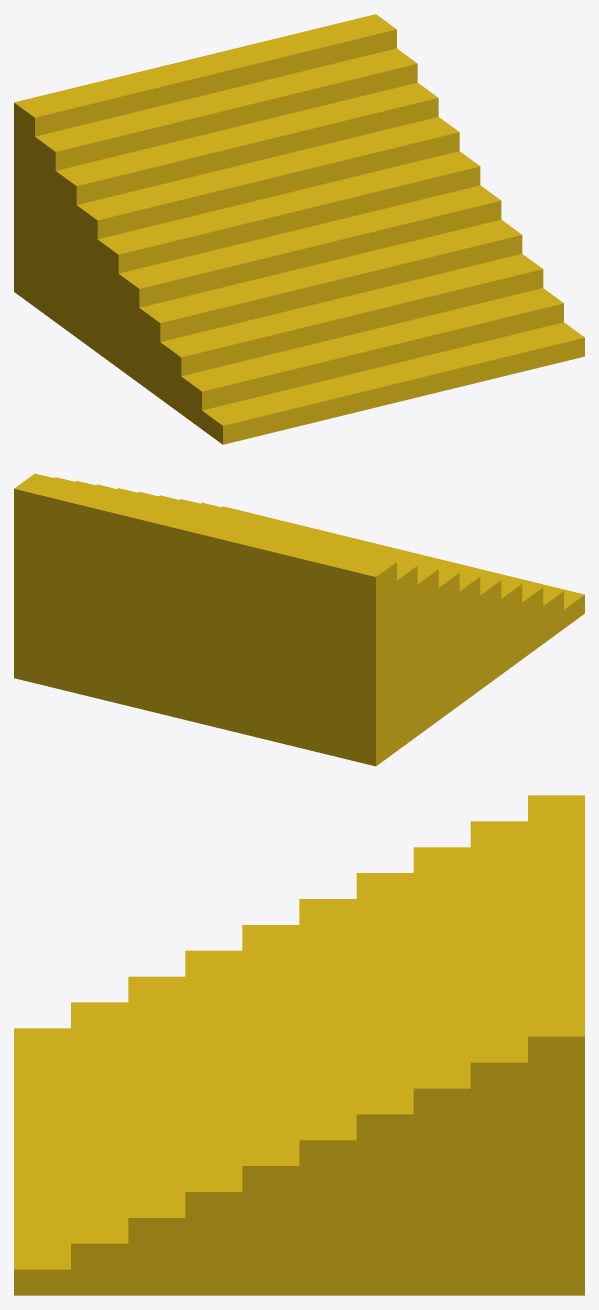
Rendered from path_yellow_ramp_2.obj.
3 views of the same model, one above another, from view 1: azimuth 30°, elevation 25°; view 2: azimuth 150°, elevation 25°; view 3: azimuth 270°, elevation 25° (orthographic). The views are drawn at different scales.
Size of the model in its own units: 2 by 1 by 2.
Materials: 1 (1 with a texture image).
